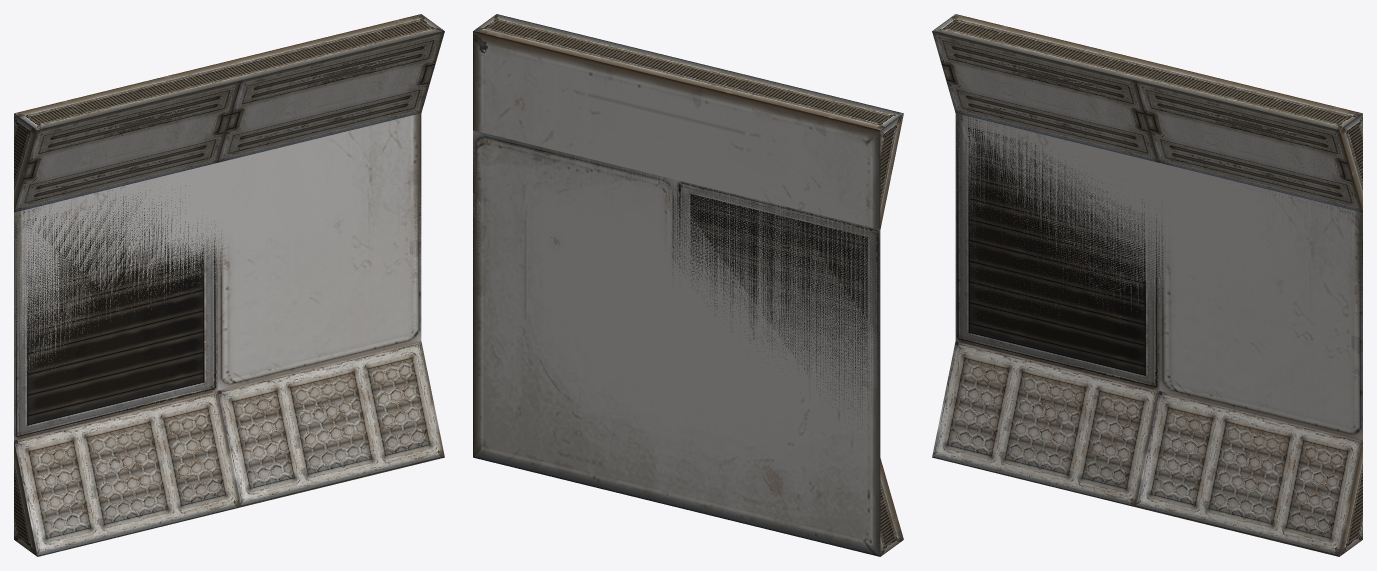
File: scifi_wall9_7.FBX
3 renders of one model, left to right at view 1: azimuth 30°, elevation 25°; view 2: azimuth 150°, elevation 25°; view 3: azimuth 330°, elevation 25°, orthographic.
Visible parts, largest first — view 1: Plane092; view 2: Plane092; view 3: Plane092.
Part boxes in pixels (x1,y1,x2,y2): Plane092: (14,14,444,556); Plane092: (473,14,903,556); Plane092: (932,14,1362,556).
Size of the model in its own units: 254 by 254 by 25.4.
